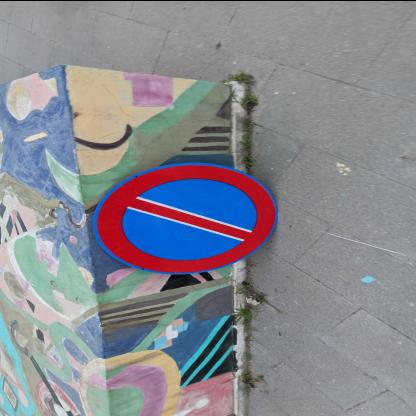No Waiting: (94, 163, 278, 276)
